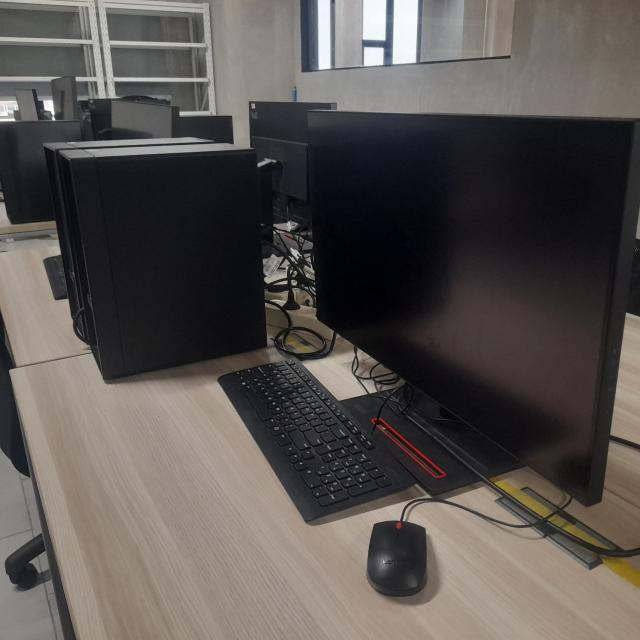keyboard: (217, 360, 416, 524)
monitor: (304, 108, 640, 508)
mouse: (365, 520, 427, 597)
pc: (57, 140, 268, 382)
